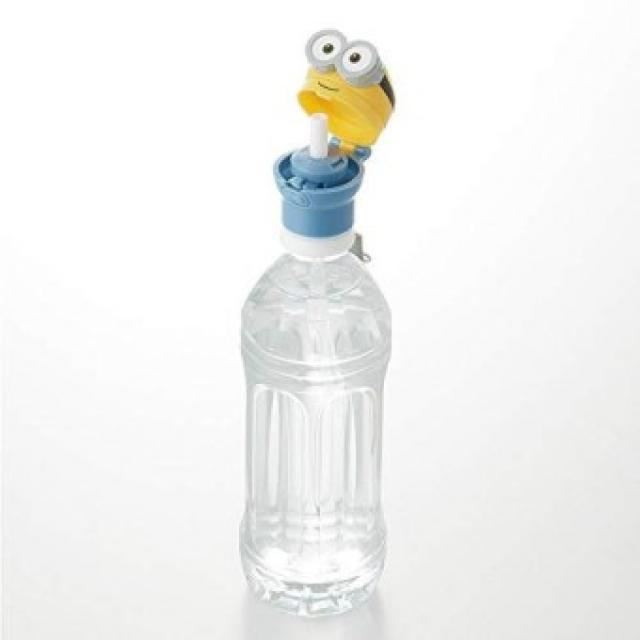plastic bottle: (239, 109, 395, 612)
